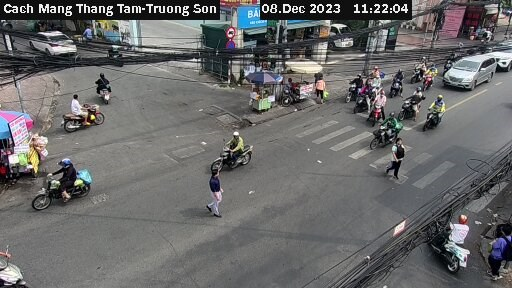car: (445, 52, 496, 92), (28, 28, 77, 58), (490, 40, 512, 70)
motorbike: (27, 166, 102, 211), (426, 205, 473, 271), (211, 140, 260, 171), (422, 100, 464, 135), (62, 99, 105, 131), (369, 120, 411, 149), (1, 245, 29, 288), (89, 72, 125, 104), (396, 89, 430, 122), (362, 96, 388, 123), (418, 68, 444, 95), (348, 85, 375, 110), (384, 70, 410, 95), (405, 59, 431, 81), (338, 73, 363, 95), (388, 74, 406, 95)
